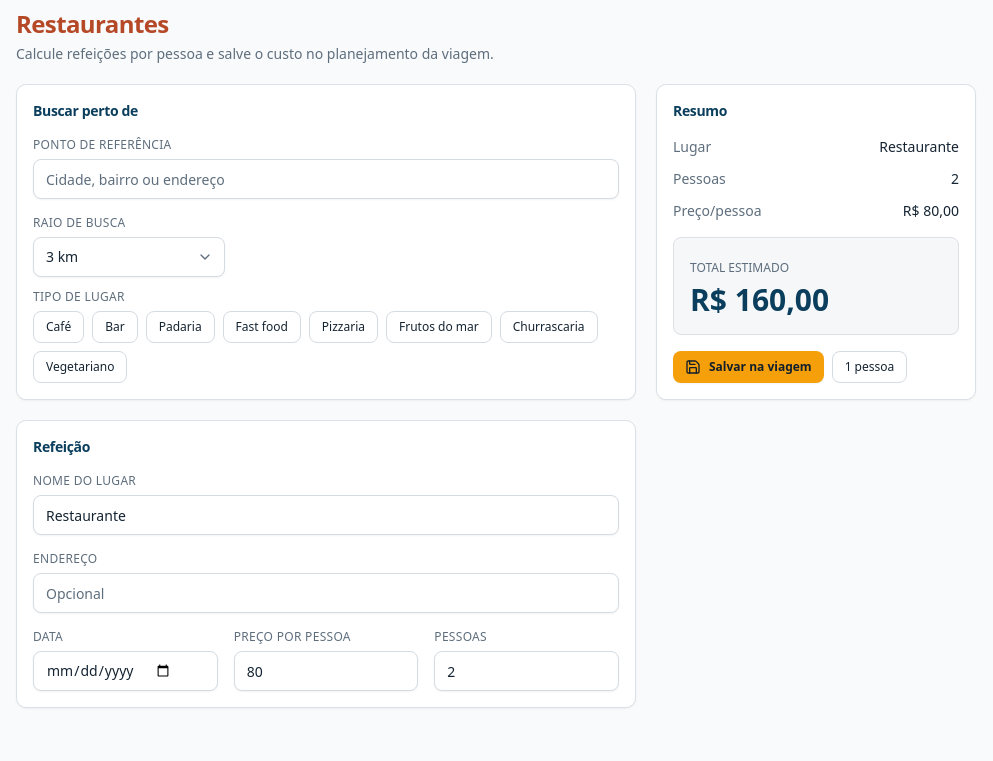
Test: restaurantes module › keeps the cost calculator usable when nearby search fails
Step 1. Type "São Paulo" into the dropdown labelled "Ponto de referência" → (326, 179), box [33,159,619,199]
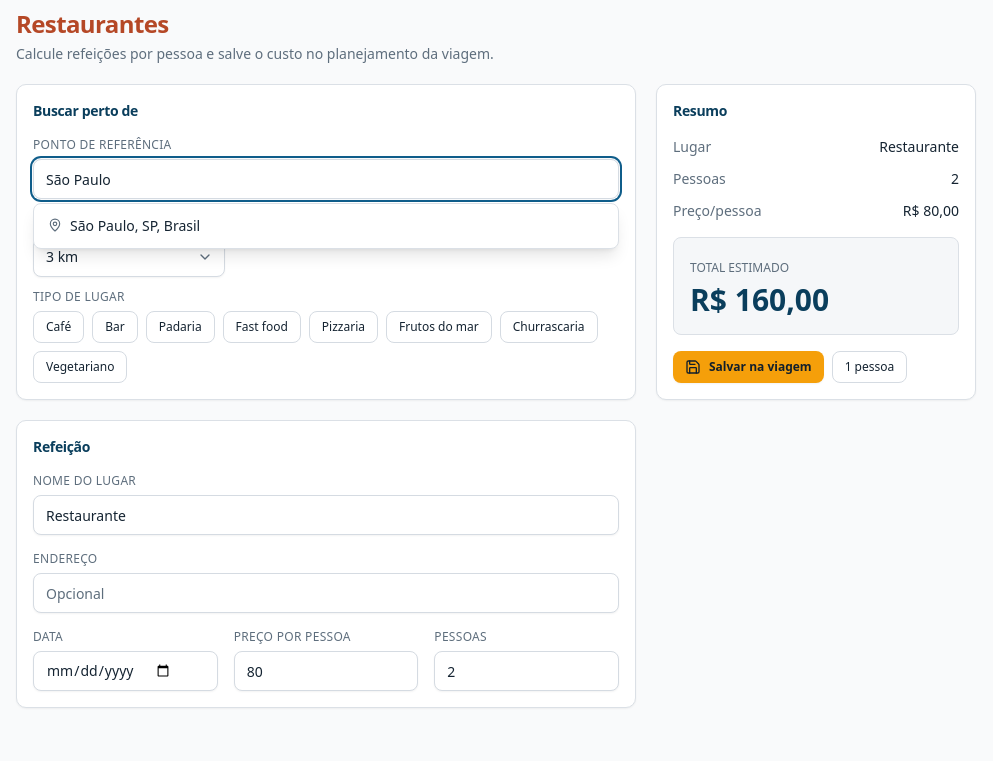
Step 2. Click the option "São Paulo, SP, Brasil" → (135, 226), box [38,208,614,244]
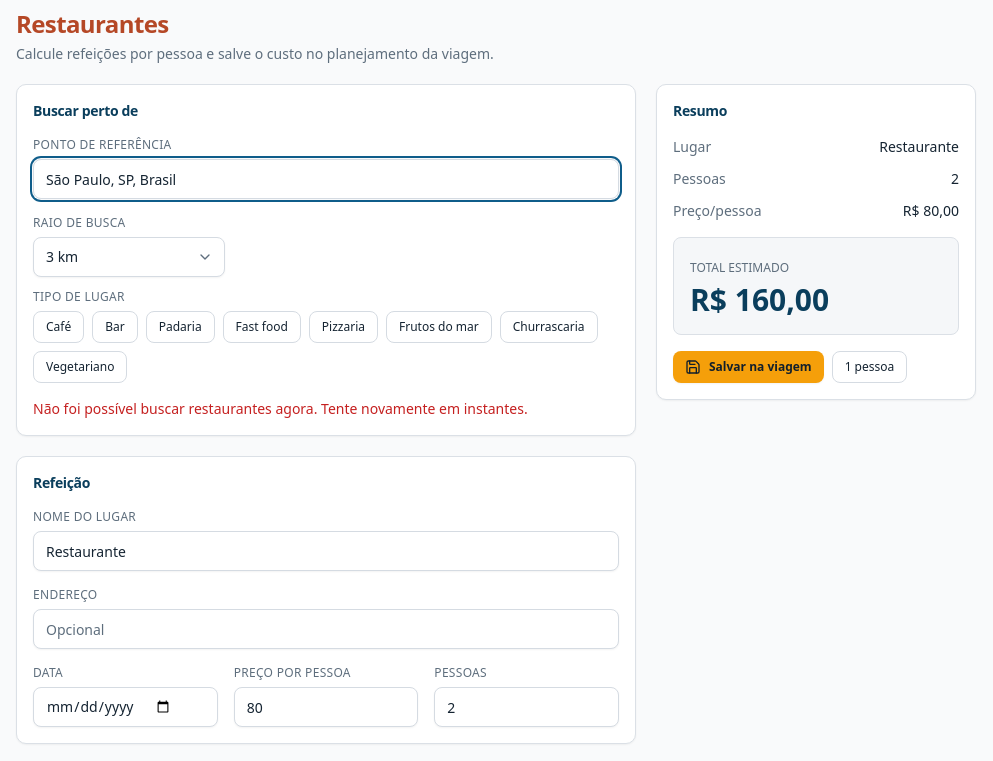
Expected: the message shows "Não foi possível buscar restaurantes", [33,399,528,418]
Step 3. Replace the text in the number field labelled "Preço por pessoa" with "50" → (326, 707), box [234,687,418,727]
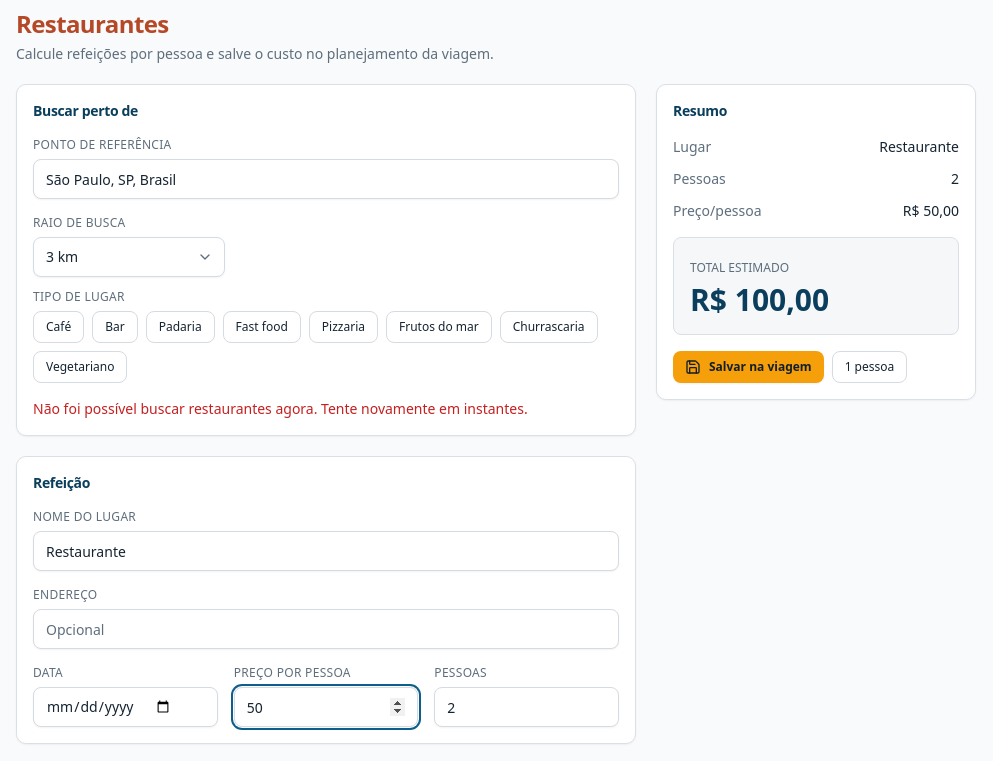
Step 4. Replace the text in the number field labelled "Pessoas" with "4" → (527, 707), box [434,687,619,727]
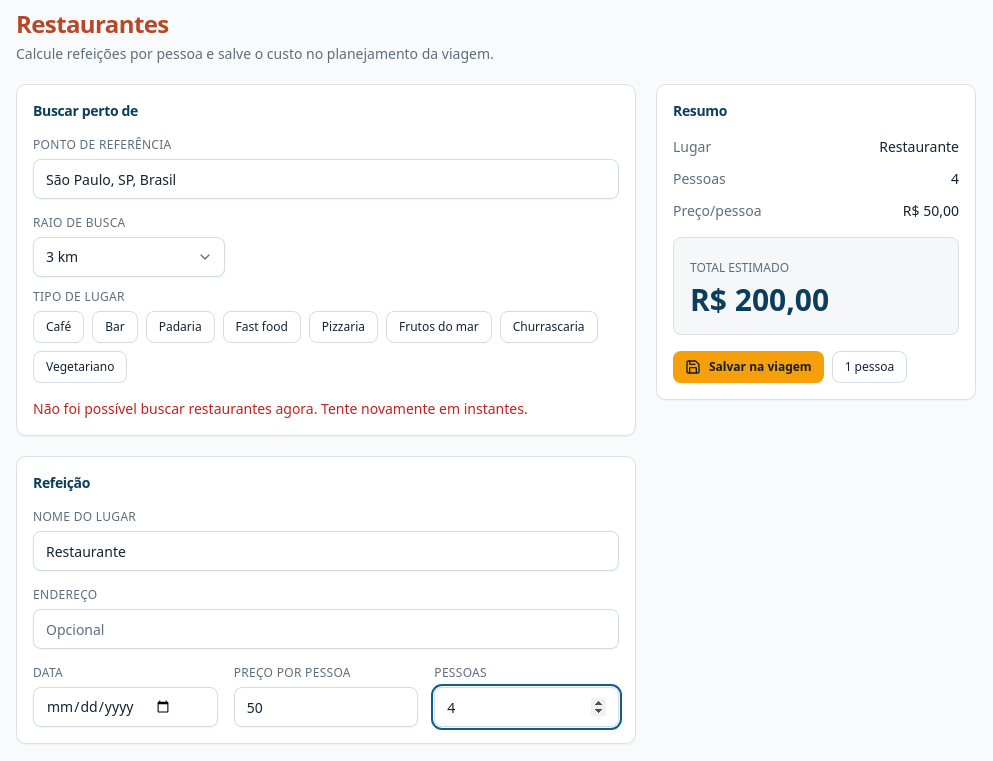
Expected: the text "R$ 200,00" is shown, [690,279,829,320]
